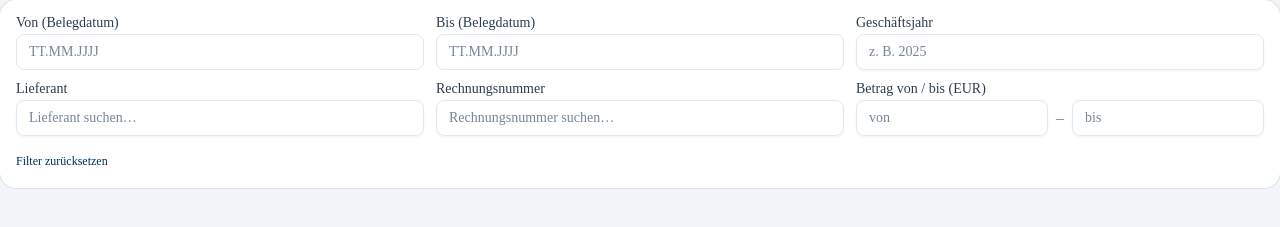
Test: ArchiveSearchFilters › dateFrom > dateTo shows German error message and blocks URL write
# Set dateFrom first (valid, writes to URL)
Type "31.12.2025" into the field labelled "Von (Belegdatum)" at (220, 52), box left=16, top=34, right=424, bottom=70
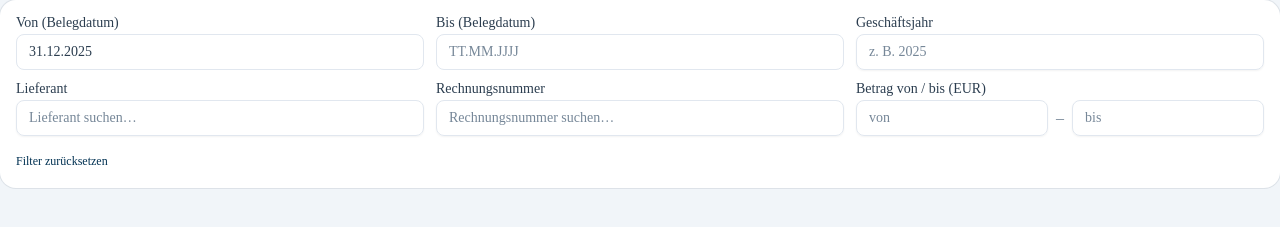
# Set dateTo to a date earlier than dateFrom
Type "01.01.2025" into the field labelled "Bis (Belegdatum)" at (640, 52), box left=436, top=34, right=844, bottom=70
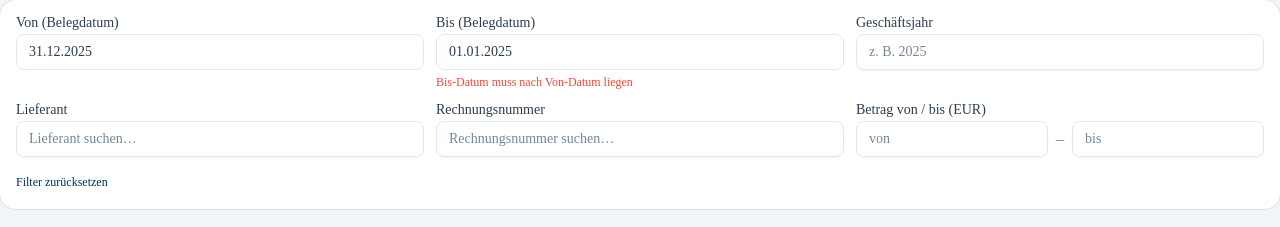
Check: the message reads "Bis-Datum muss nach Von-Datum liegen", box left=436, top=75, right=633, bottom=89
